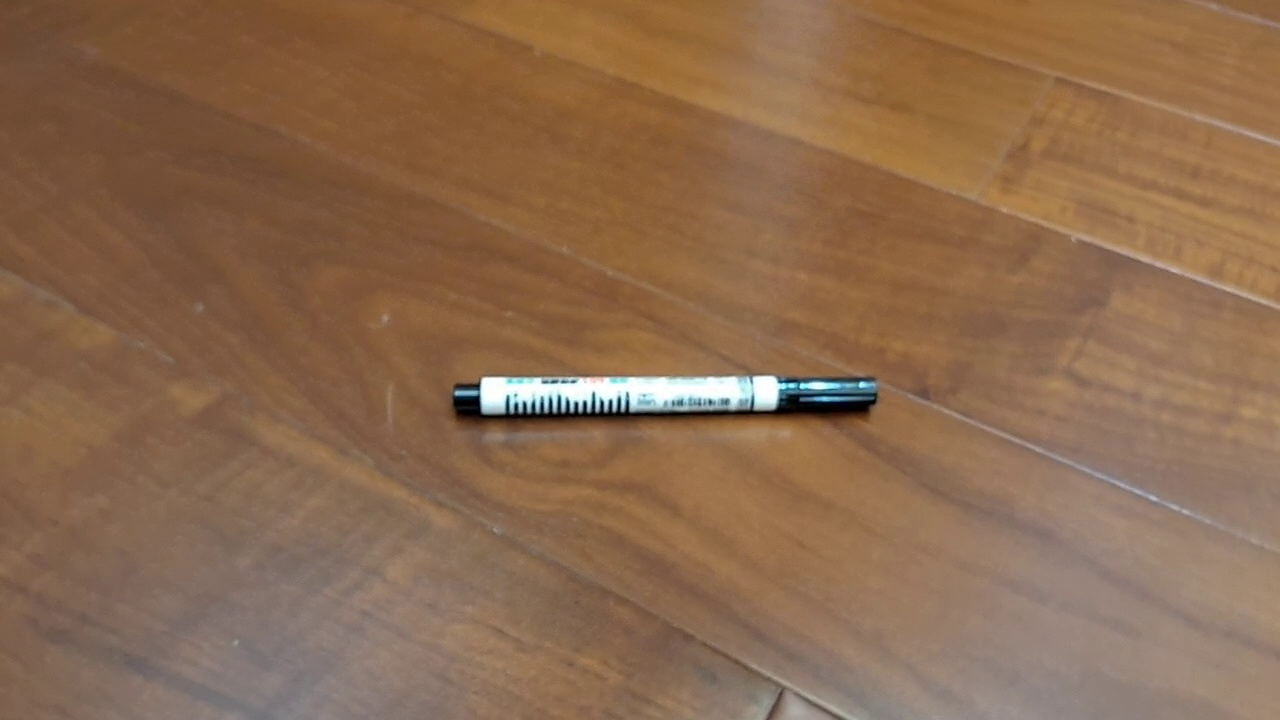pen: (452, 372, 879, 419)
